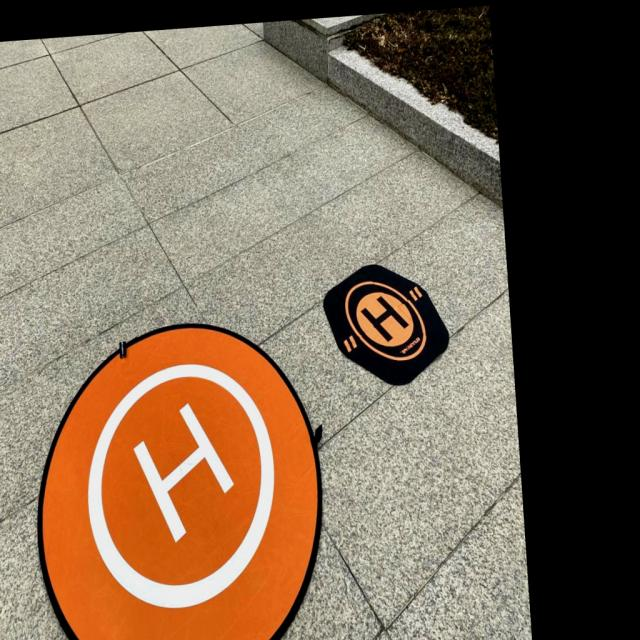helipad: (84, 356, 278, 612), (341, 277, 428, 362)
